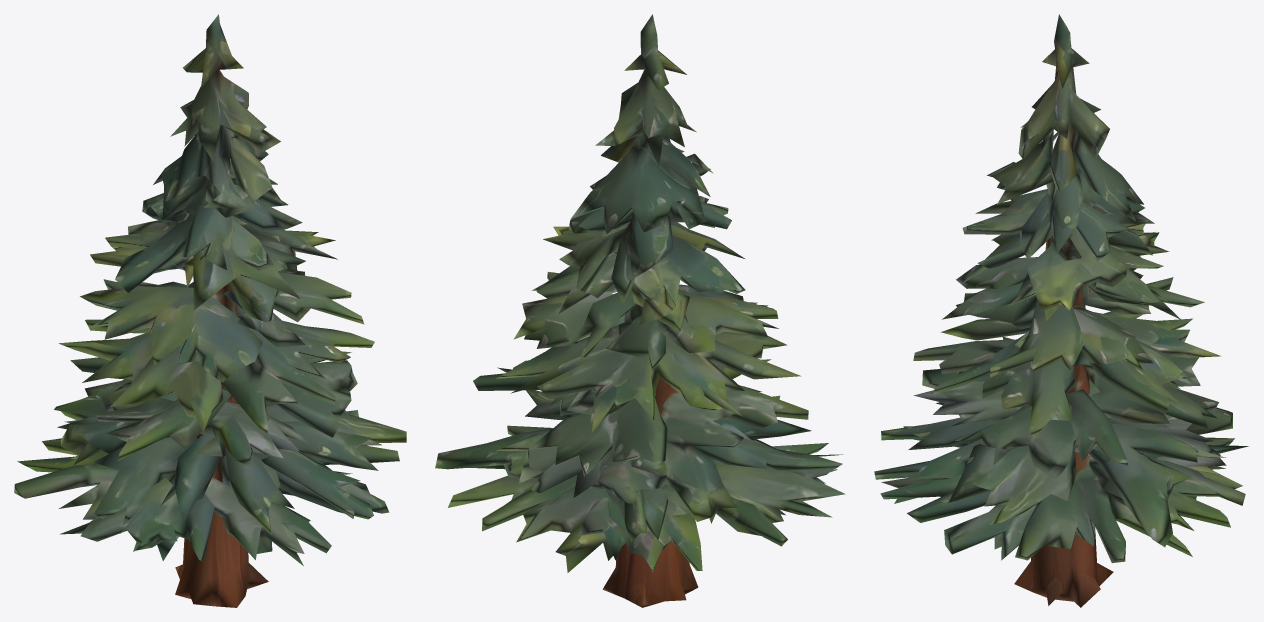
Rendered from cam.glb.
3 views of the same model, side by side, from view 1: azimuth 30°, elevation 25°; view 2: azimuth 150°, elevation 25°; view 3: azimuth 270°, elevation 25° (orthographic).
Parts seen in each view (by area): view 1: tripo_node_702d235c-26e0-48b7-a2fb-b7d9b0ff5a2f; view 2: tripo_node_702d235c-26e0-48b7-a2fb-b7d9b0ff5a2f; view 3: tripo_node_702d235c-26e0-48b7-a2fb-b7d9b0ff5a2f.
Part boxes in pixels (x1,y1,x2,y2): tripo_node_702d235c-26e0-48b7-a2fb-b7d9b0ff5a2f: [14, 14, 406, 607]; tripo_node_702d235c-26e0-48b7-a2fb-b7d9b0ff5a2f: [435, 14, 845, 607]; tripo_node_702d235c-26e0-48b7-a2fb-b7d9b0ff5a2f: [874, 14, 1248, 607].
Bounding box in the file's own units: 0.6189 × 1 × 0.5933.
1 material, 1 textured.
